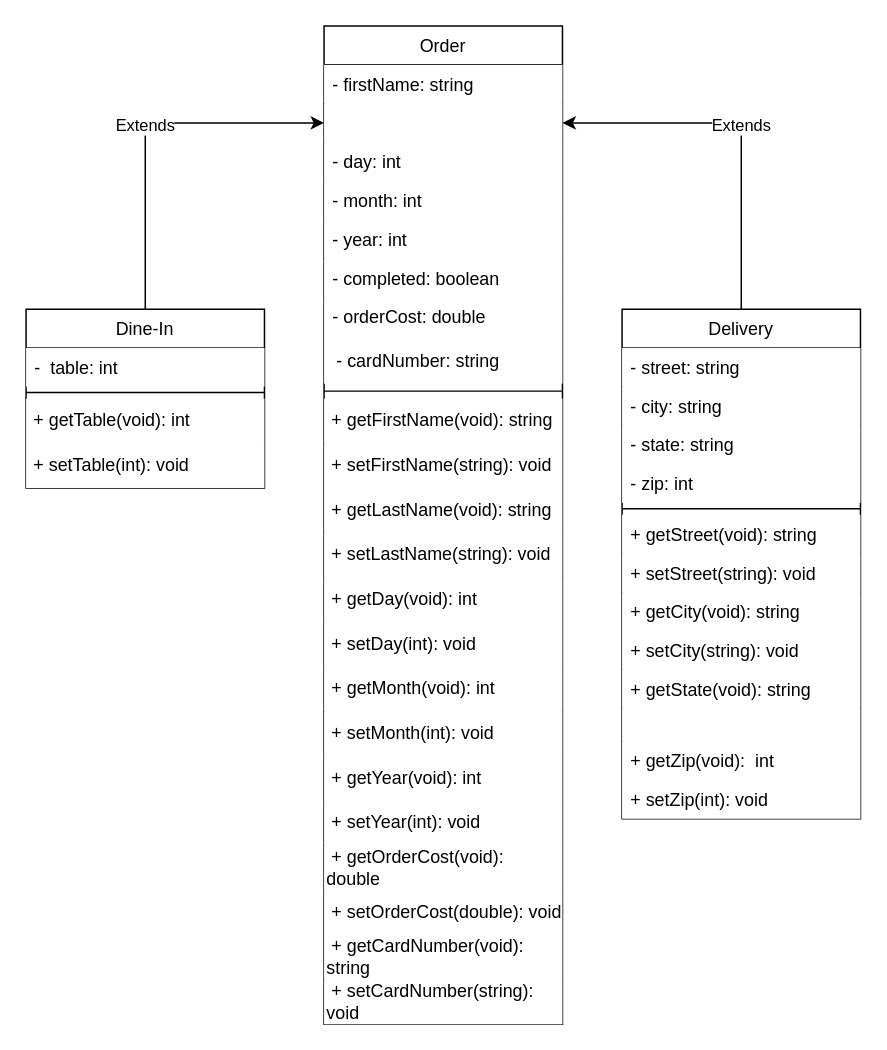
This 887x1050 diagram has some shape labels left out. The centre of each missing label's shape, as x and y in pixels:
+ setState(string): void: [740,724]
- lastName: string: [442,122]
